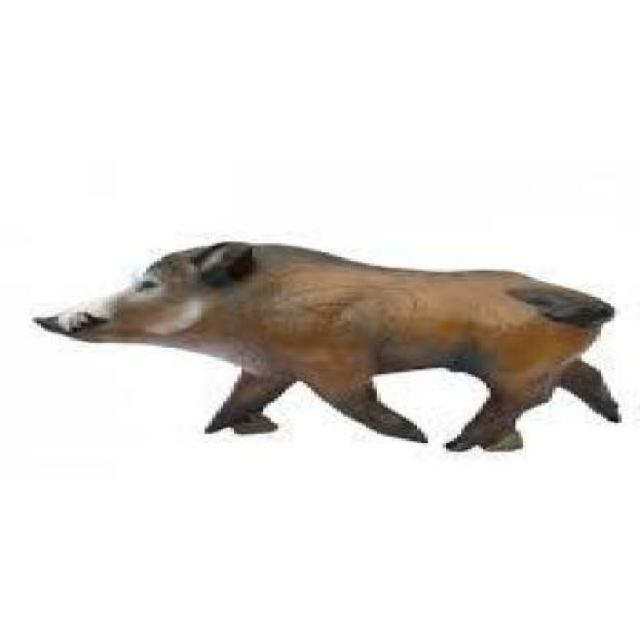wildboar: (28, 240, 624, 452)
